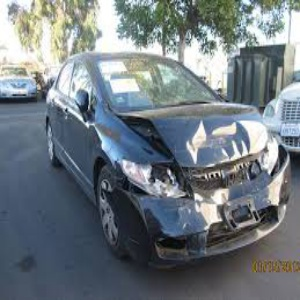door: (44, 134, 116, 198)
